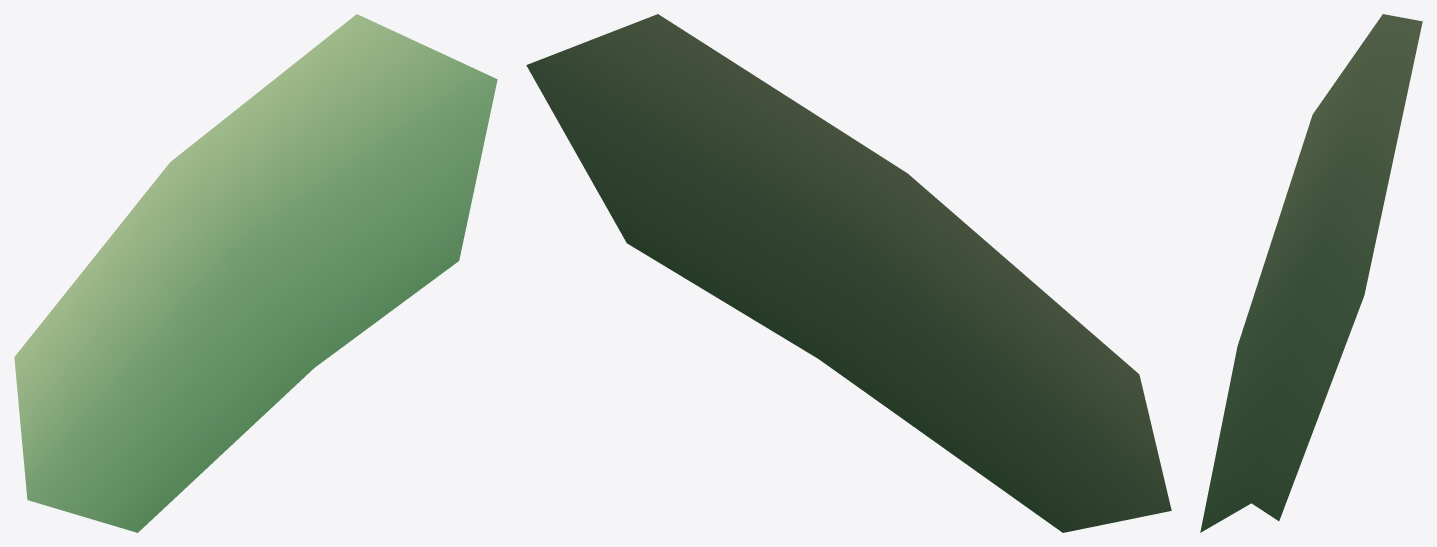
The model's file is MinionChestEyebrowLeft.glb.
3 views of the same model, side by side, from view 1: azimuth 30°, elevation 25°; view 2: azimuth 150°, elevation 25°; view 3: azimuth 270°, elevation 25° (orthographic). The views are drawn at different scales.
Visible parts, largest first — view 1: MinionChestEyebrowLeft; view 2: MinionChestEyebrowLeft; view 3: MinionChestEyebrowLeft.
Part boxes in pixels (bbox=[...]): MinionChestEyebrowLeft: bbox=[14, 14, 497, 532]; MinionChestEyebrowLeft: bbox=[526, 14, 1171, 532]; MinionChestEyebrowLeft: bbox=[1200, 14, 1422, 532].
Size of the model in its own units: 0.237 by 0.1832 by 0.0482.
